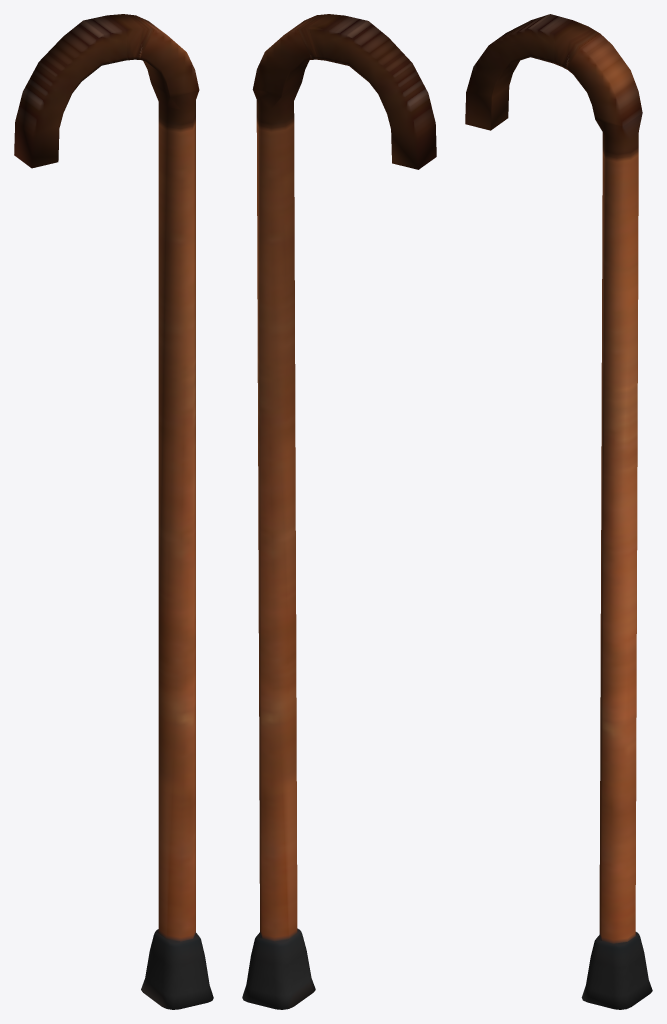
The model's file is AuthenticWalkingCane.fbx.
The picture shows the model from 3 angles, left to right: view 1: azimuth 30°, elevation 25°; view 2: azimuth 150°, elevation 25°; view 3: azimuth 330°, elevation 25°; orthographic projection. The views are drawn at different scales.
Visible parts, largest first — view 1: Cube; view 2: Cube; view 3: Cube.
Part boxes in pixels (box(x1,y1,x2,y2)): Cube: box(14, 14, 213, 1009); Cube: box(242, 14, 436, 1009); Cube: box(465, 14, 652, 1009).
Size of the model in its own units: 0.1166 by 0.6239 by 0.0385.
